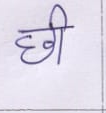i_matra: (51, 3, 69, 65)
